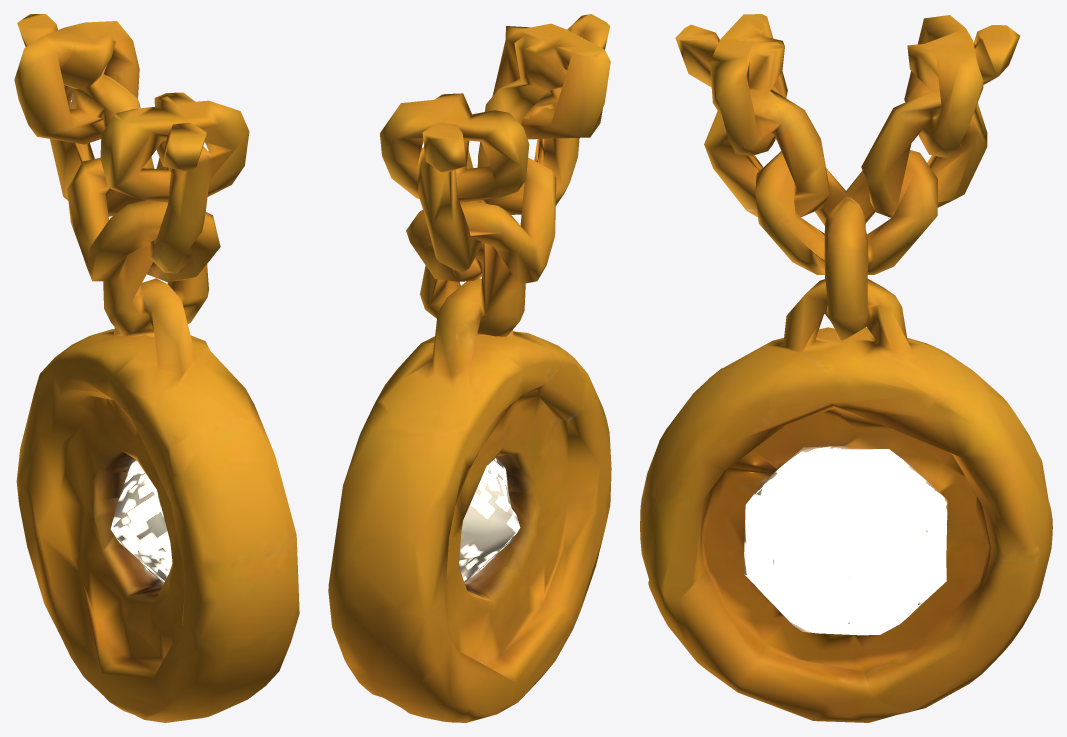
File: loot_amulet-cC8HwQOd.glb
The picture shows the model from 3 angles, left to right: view 1: azimuth 30°, elevation 25°; view 2: azimuth 150°, elevation 25°; view 3: azimuth 270°, elevation 25°; orthographic projection. The views are drawn at different scales.
Visible parts, largest first — view 1: tripo_node_2ef5ac59-011e-4eba-ba43-93f86201f79f; view 2: tripo_node_2ef5ac59-011e-4eba-ba43-93f86201f79f; view 3: tripo_node_2ef5ac59-011e-4eba-ba43-93f86201f79f.
Boxes of the visible parts, bbox=[...] form: tripo_node_2ef5ac59-011e-4eba-ba43-93f86201f79f: bbox=[14, 14, 299, 722]; tripo_node_2ef5ac59-011e-4eba-ba43-93f86201f79f: bbox=[328, 14, 611, 722]; tripo_node_2ef5ac59-011e-4eba-ba43-93f86201f79f: bbox=[640, 14, 1052, 722].
Size of the model in its own units: 0.2867 by 1 by 0.5705.
Materials: 1 (1 with a texture image).
